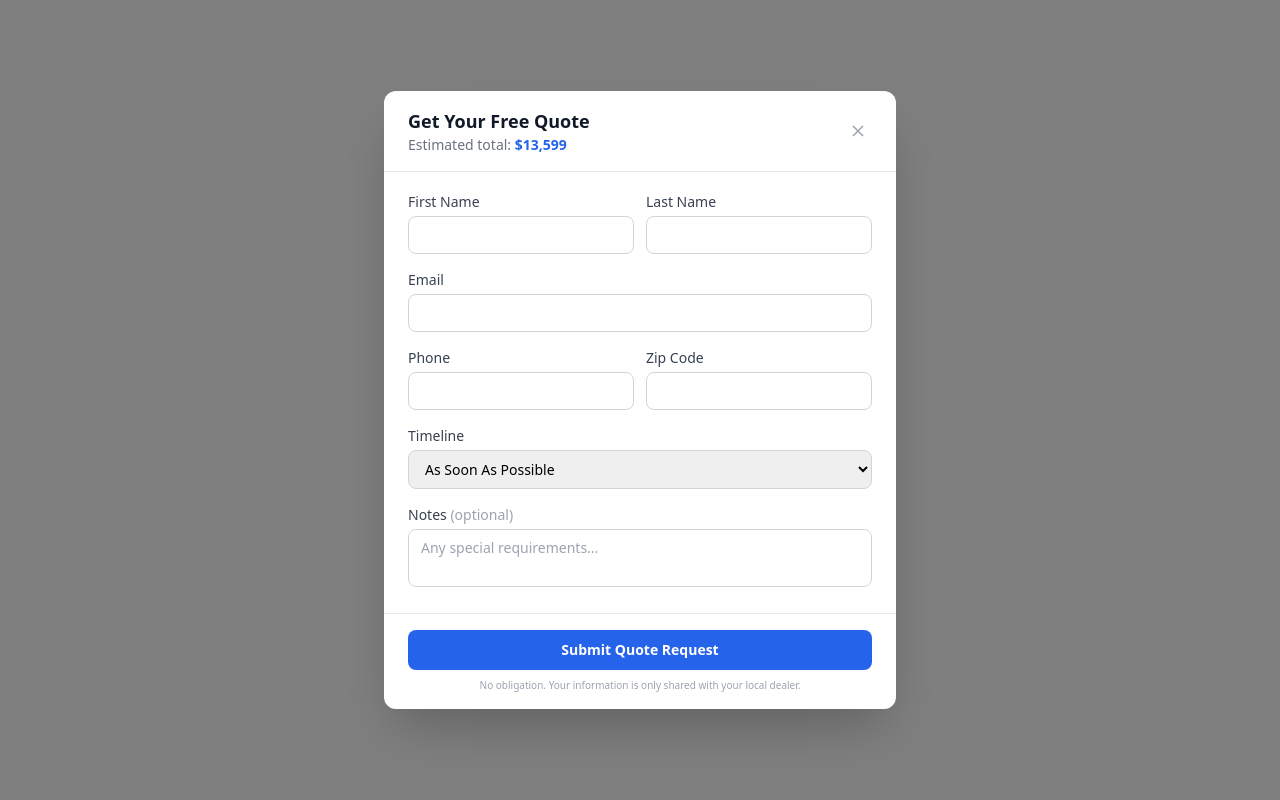
QuoteFormModal › does NOT render the success screen on a failed submission, keeps the form usable, and announces the error
Type "Jane" into the field below "First Name" at (521, 235), box [408,216,634,254]
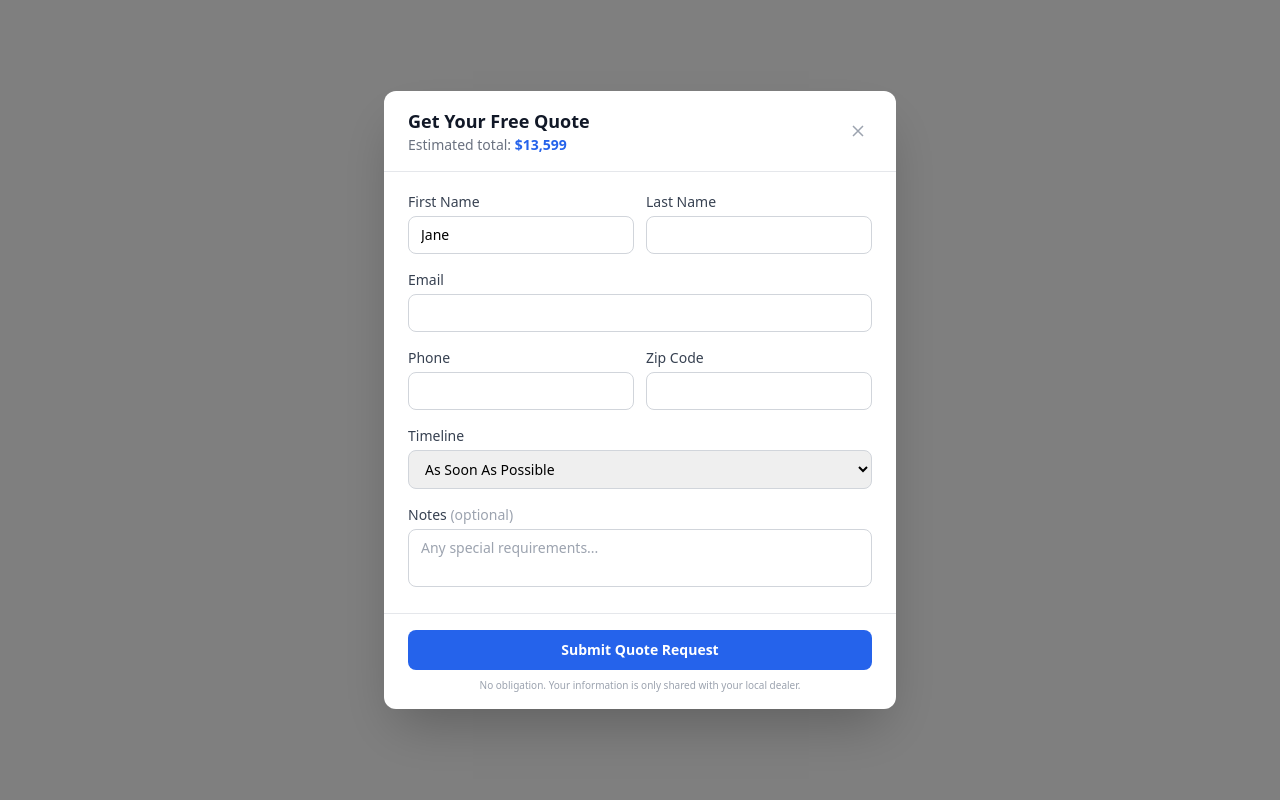
Type "Doe" into the field below "Last Name" at (759, 235), box [646,216,872,254]
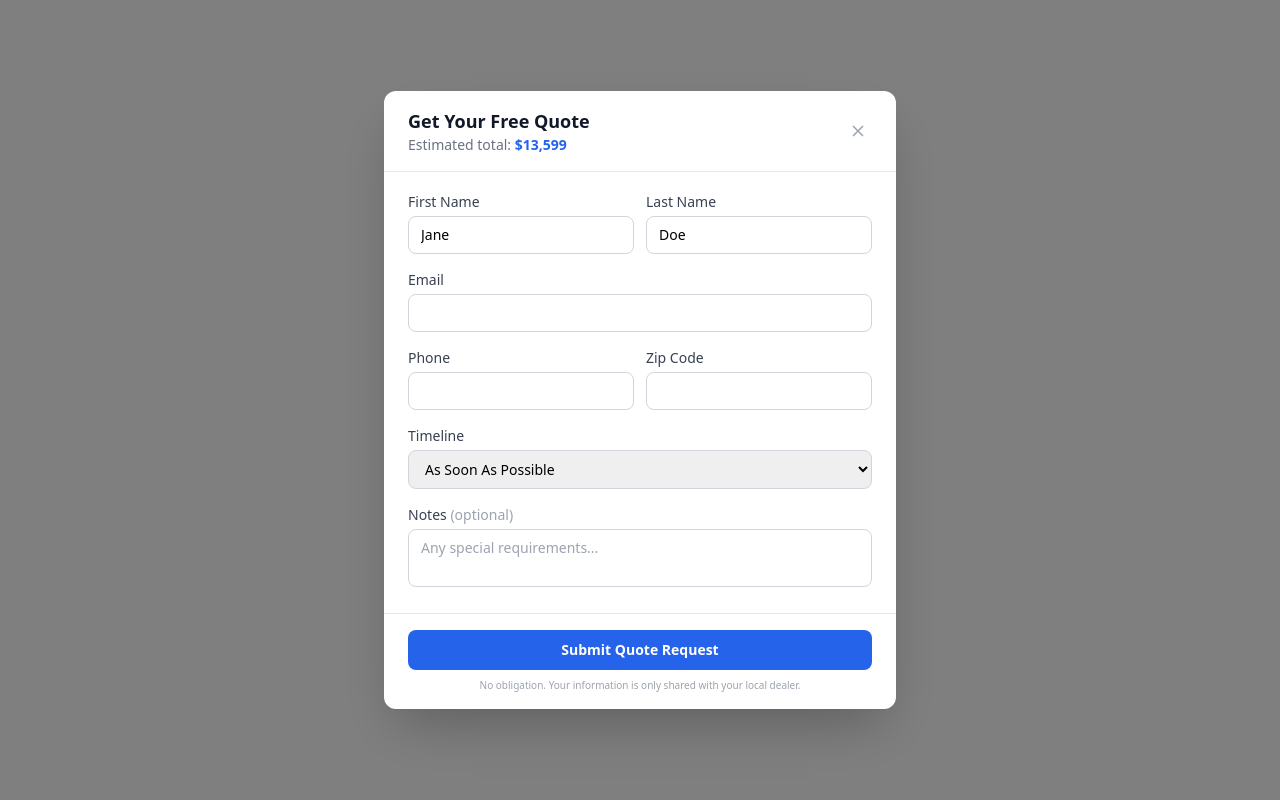
Type "jane@example.com" into the field below "Email" at (640, 313), box [408,294,872,332]
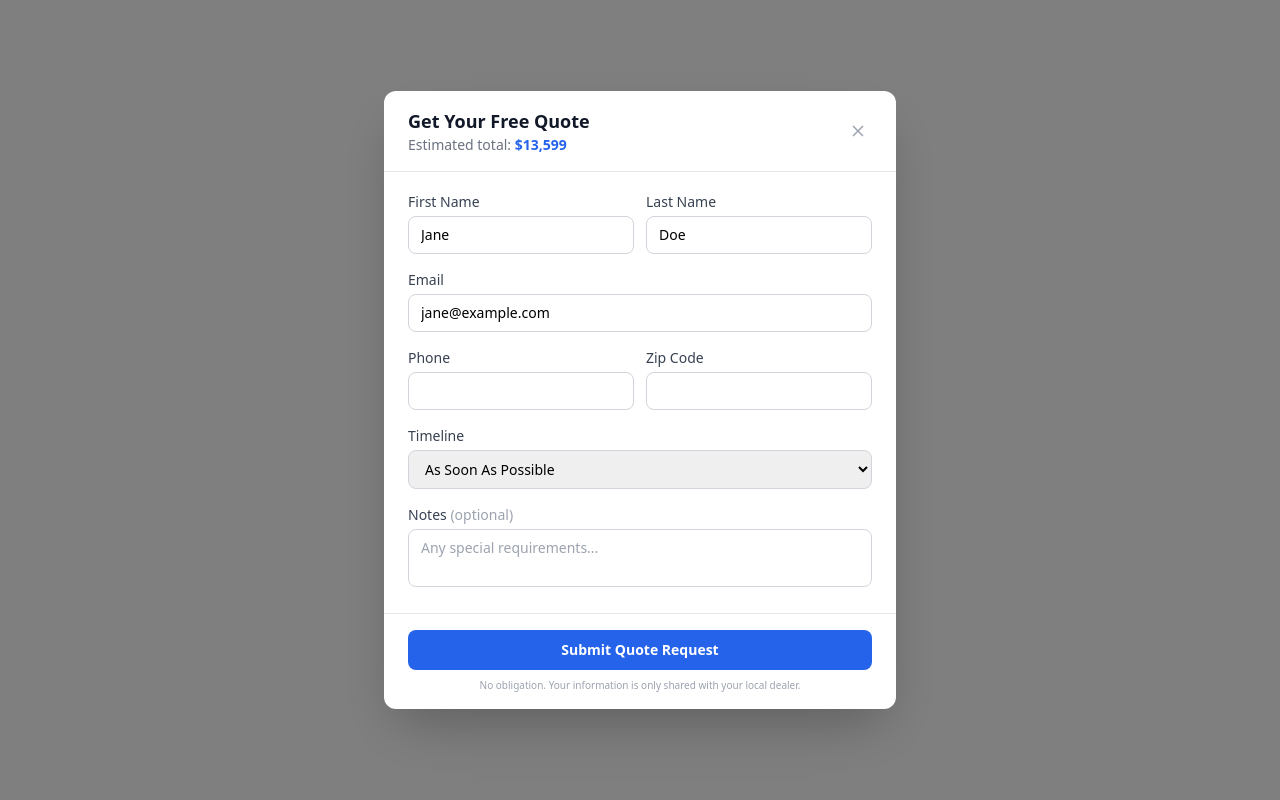
Type "5551234567" into the field below "Phone" at (521, 391), box [408,372,634,410]
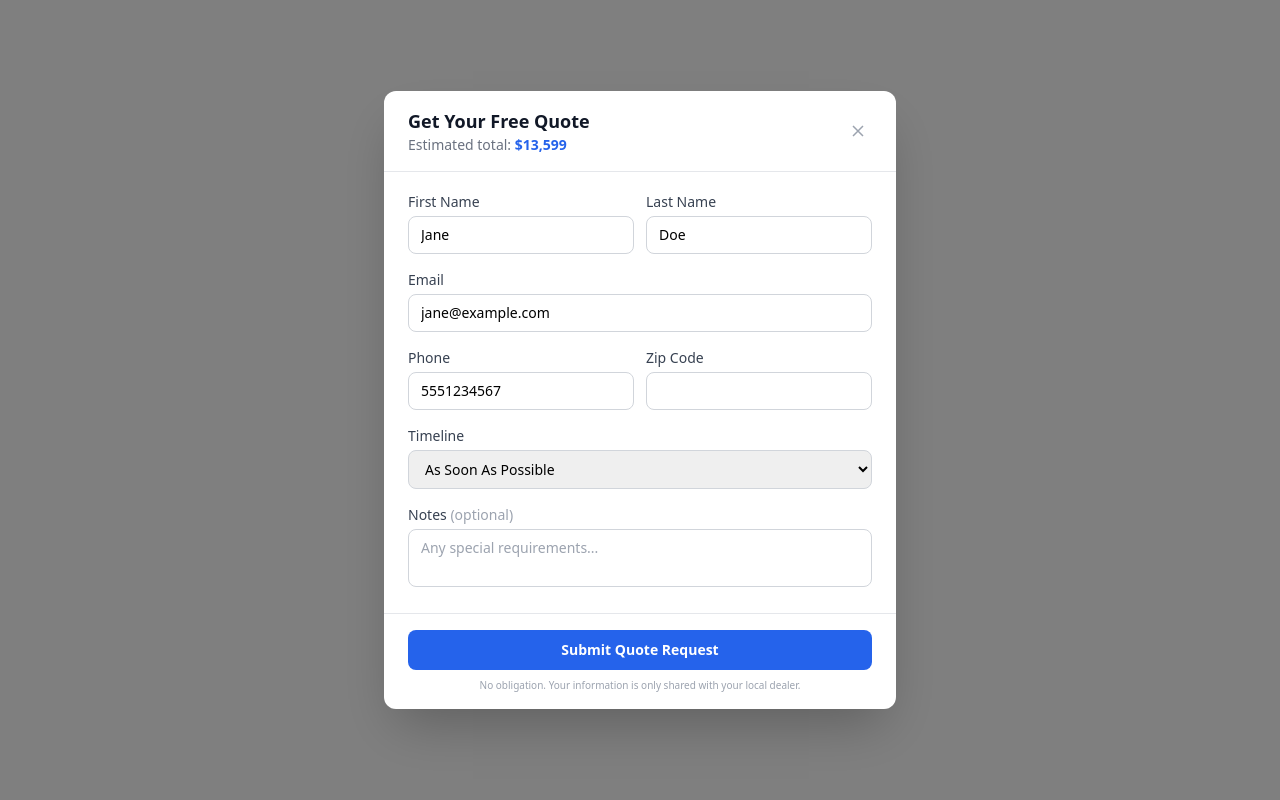
Type "75001" into the field below "Zip Code" at (759, 391), box [646,372,872,410]
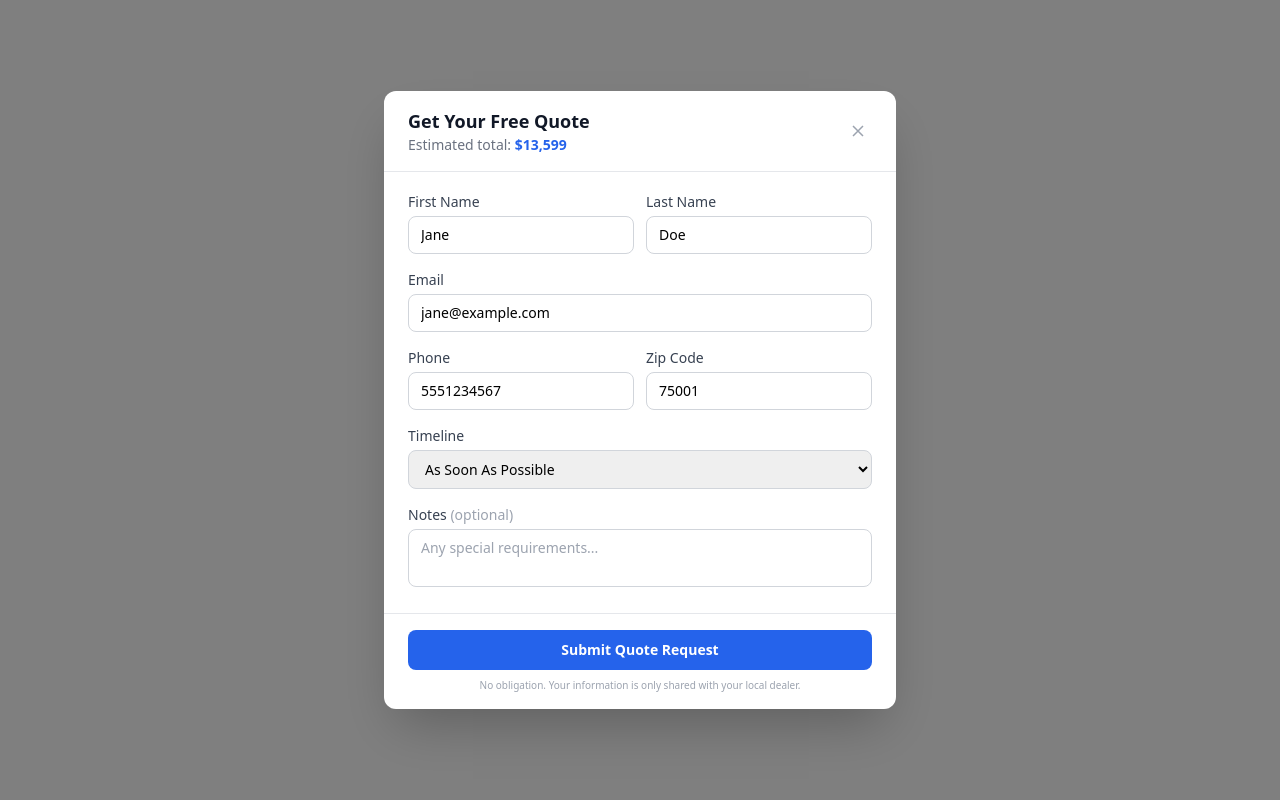
Click the button "Submit Quote Request" at (640, 650), box [408,630,872,670]
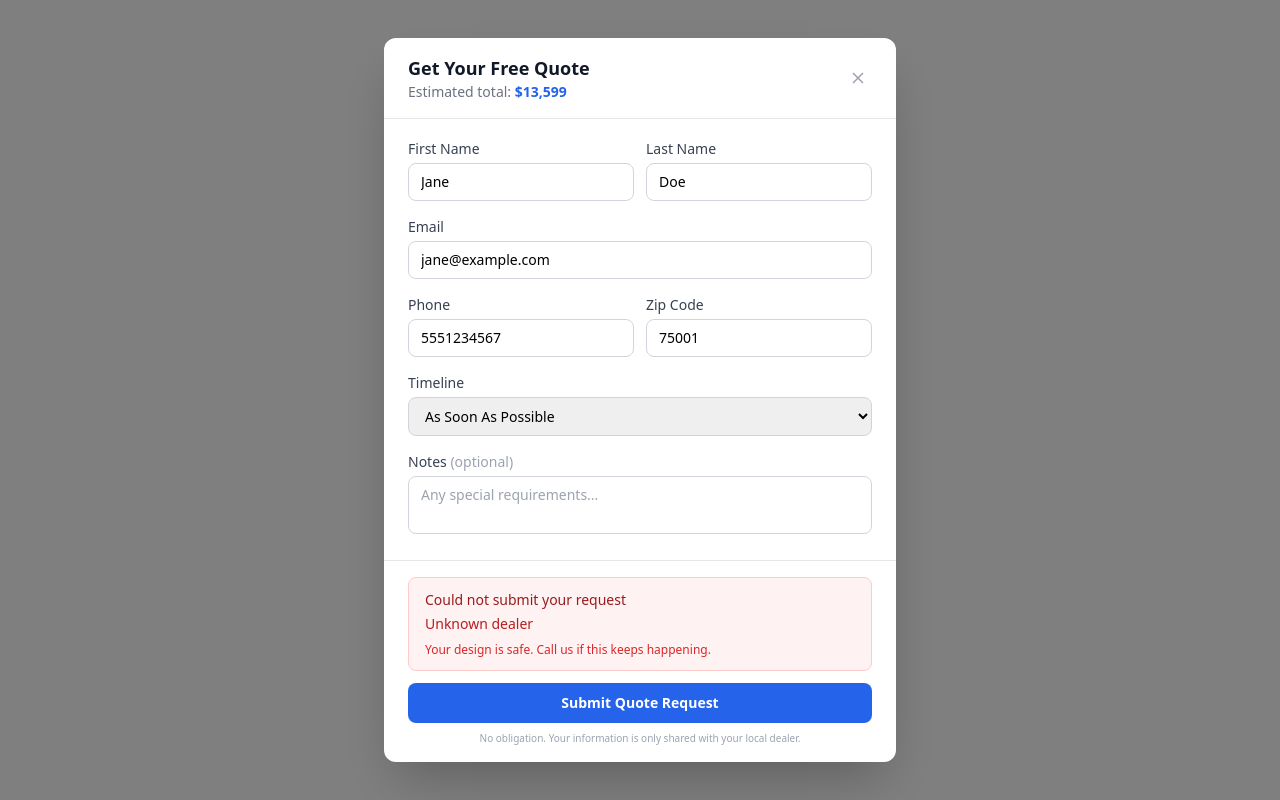
Expected: the button "Submit Quote Request" is shown, [408,683,872,723]
Now the message shows "Unknown dealer", box [425,614,533,633]
